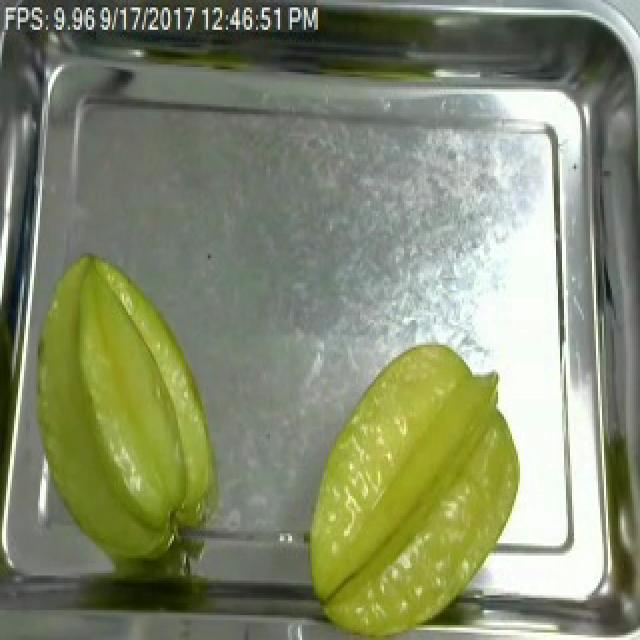fruit: (292, 335, 532, 640), (16, 240, 228, 576)
